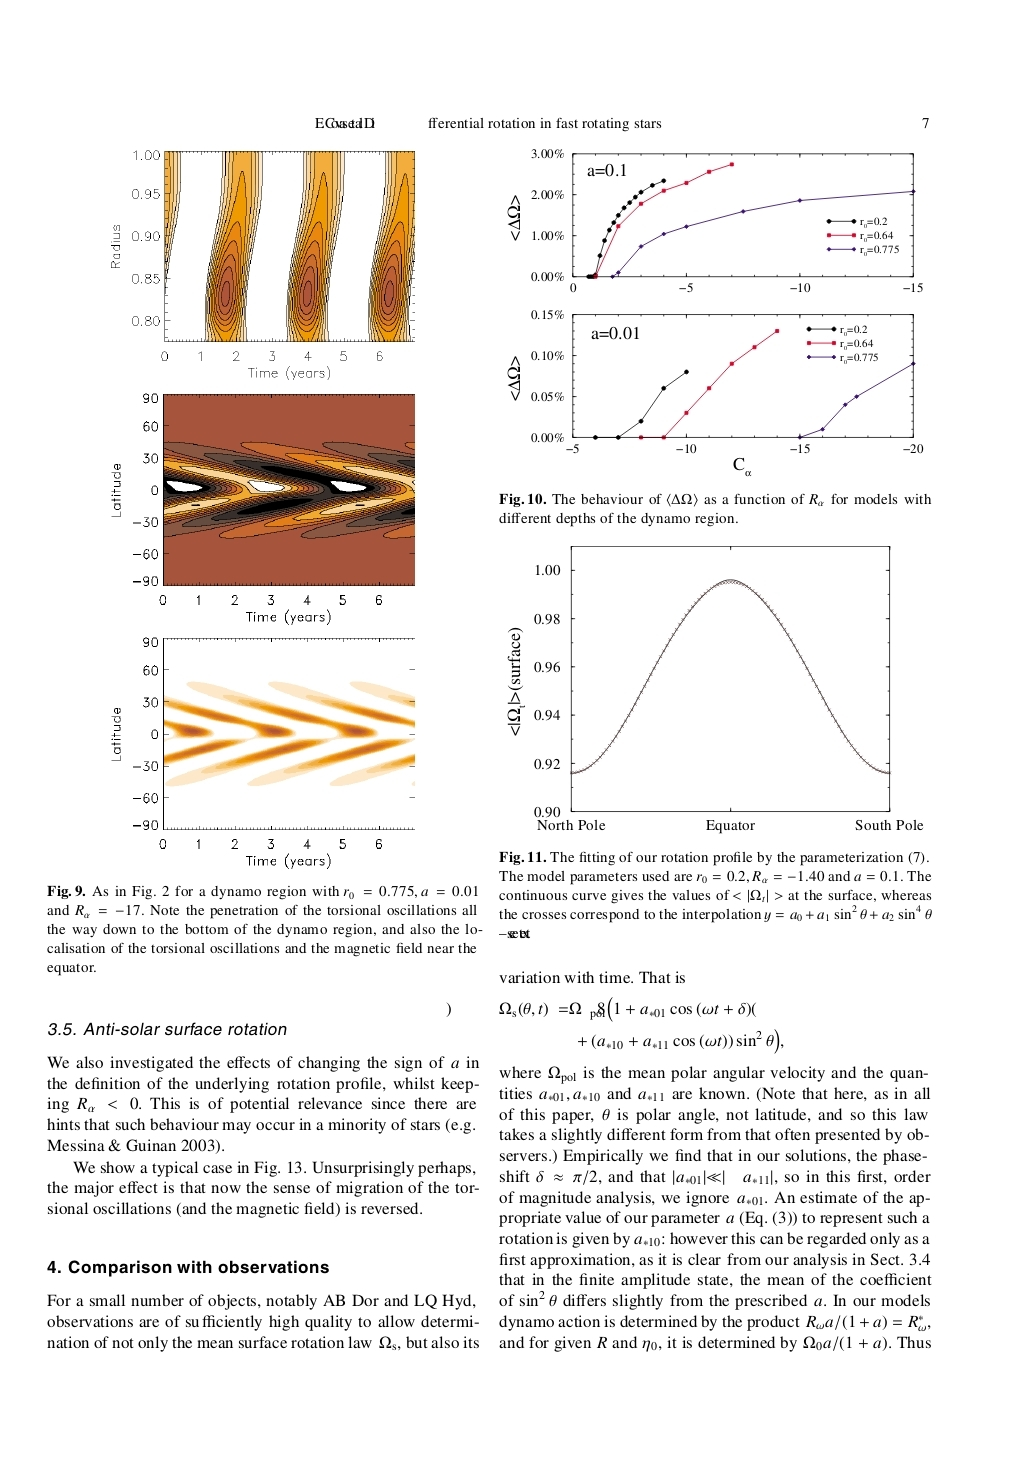figure: (507, 545, 923, 834), (110, 393, 415, 624), (110, 637, 415, 868), (110, 149, 414, 379), (507, 309, 923, 454), (507, 148, 922, 293)
formula: (499, 996, 755, 1022), (578, 1028, 783, 1054)
